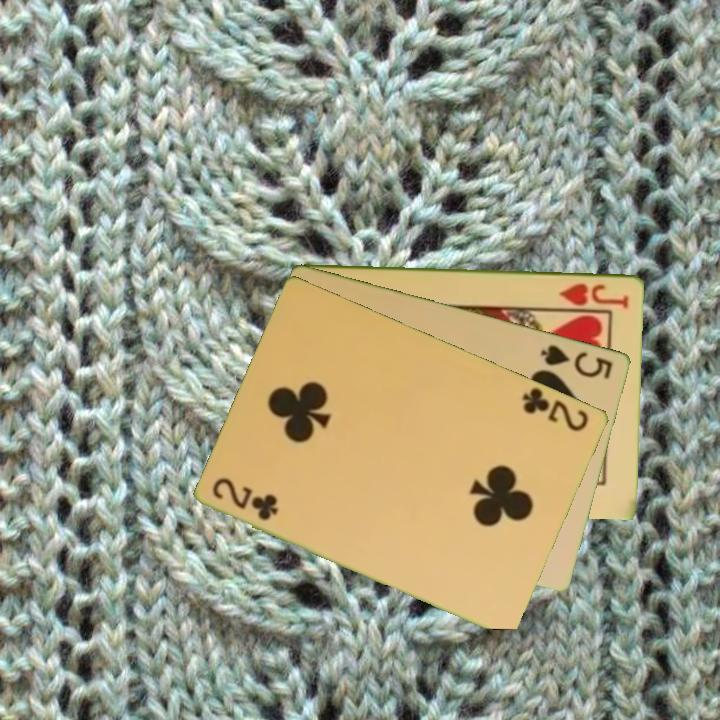2c: (519, 384, 592, 435), (209, 474, 282, 524)
5s: (538, 340, 616, 382)
Jh: (556, 279, 632, 311)
